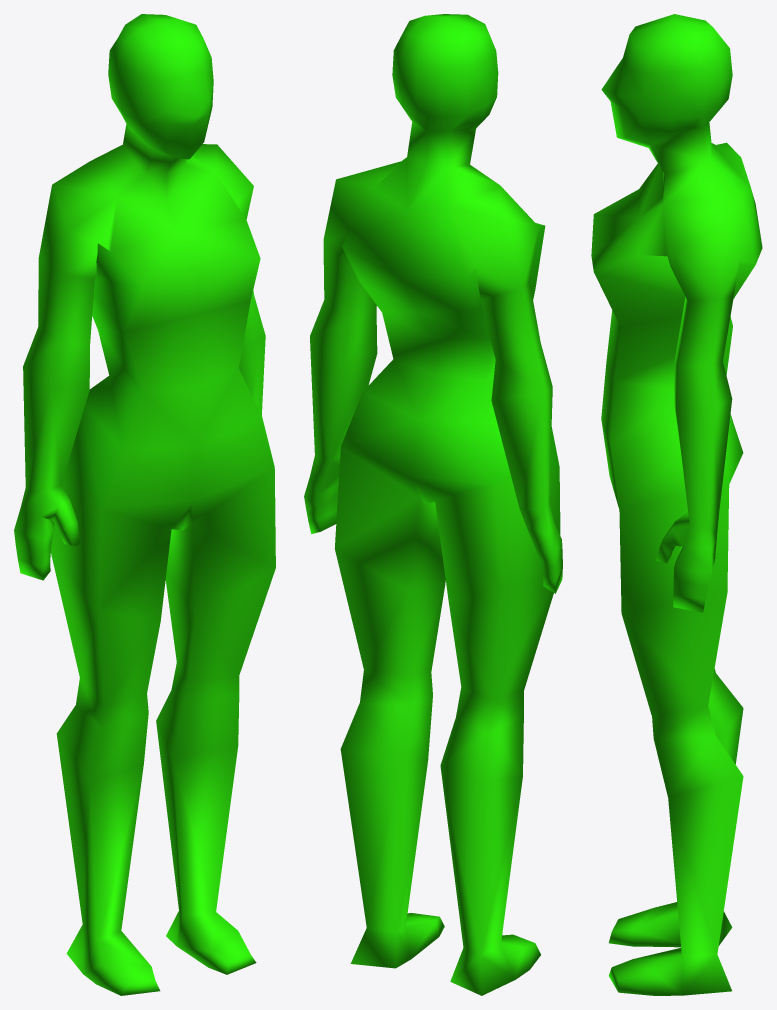
Rendered from info_player_start.obj.
The picture shows the model from 3 angles, left to right: view 1: azimuth 30°, elevation 25°; view 2: azimuth 150°, elevation 25°; view 3: azimuth 270°, elevation 25°; orthographic projection.
Visible parts, largest first — view 1: info_player_start_info_player_start_Cube.004; view 2: info_player_start_info_player_start_Cube.004; view 3: info_player_start_info_player_start_Cube.004.
Boxes of the visible parts, bbox=[...] form: info_player_start_info_player_start_Cube.004: bbox=[14, 14, 275, 995]; info_player_start_info_player_start_Cube.004: bbox=[304, 14, 562, 995]; info_player_start_info_player_start_Cube.004: bbox=[591, 14, 762, 995].
Size of the model in its own units: 0.4388 by 1.58 by 0.2605.
Materials: 1 (1 with a texture image).
